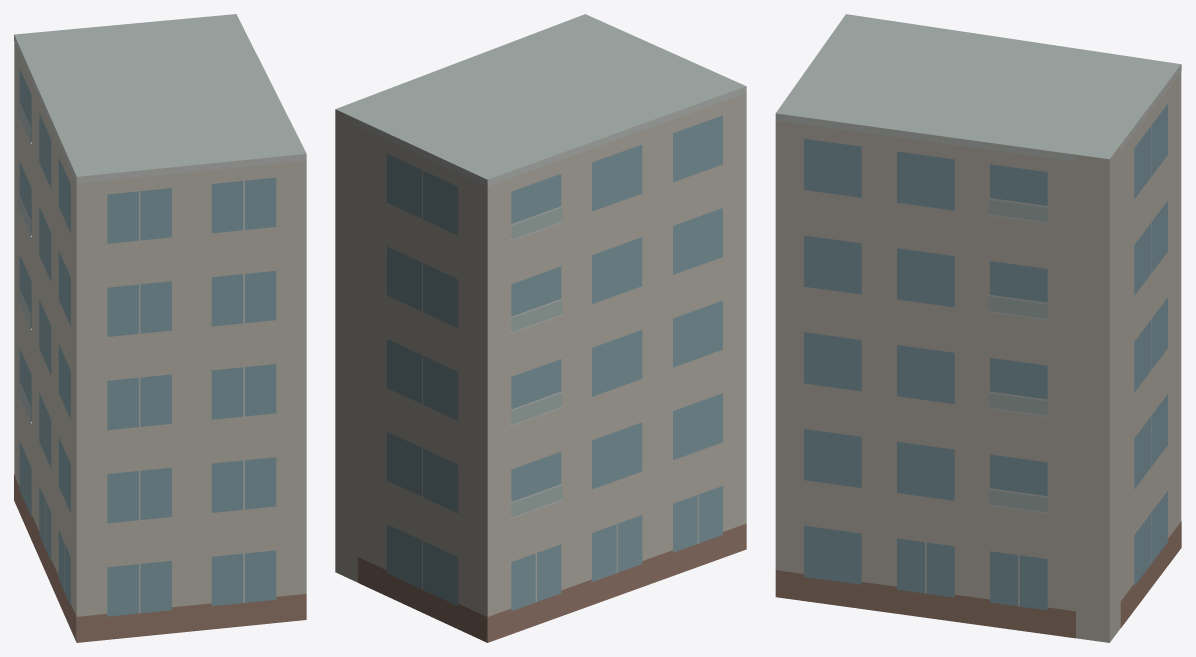
The model's file is survey-upis-32716899.glb.
3 renders of one model, left to right at view 1: azimuth 30°, elevation 25°; view 2: azimuth 150°, elevation 25°; view 3: azimuth 270°, elevation 25°, orthographic. The views are drawn at different scales.
Visible parts, largest first — view 1: survey-upis-32716899.tmp; view 2: survey-upis-32716899.tmp; view 3: survey-upis-32716899.tmp.
Boxes of the visible parts, x1=… form: survey-upis-32716899.tmp: x1=14, y1=14, x2=306, y2=642; survey-upis-32716899.tmp: x1=335, y1=14, x2=746, y2=642; survey-upis-32716899.tmp: x1=775, y1=14, x2=1181, y2=642.
Size of the model in its own units: 10.69 by 16.6 by 12.63.
